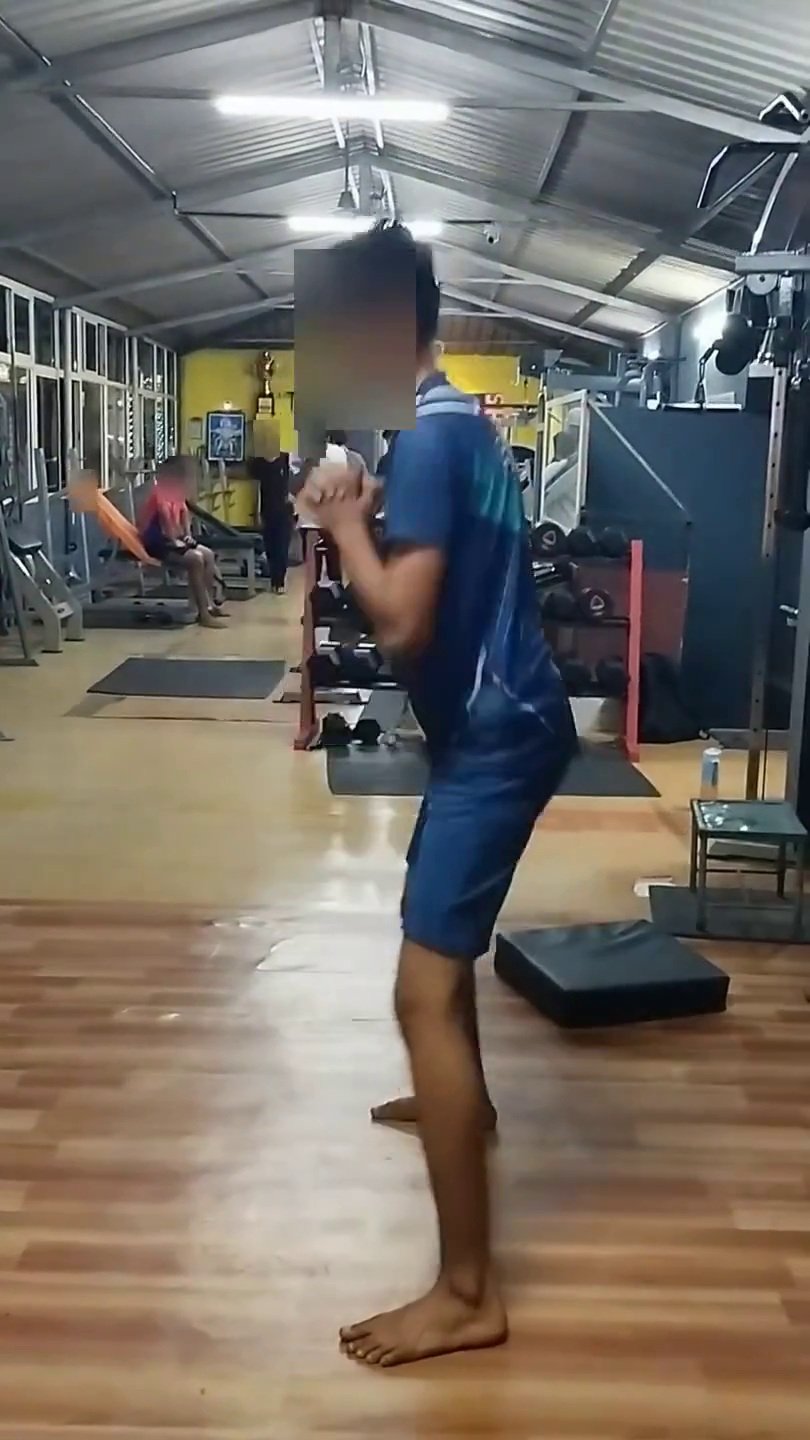squat: (233, 258, 596, 1423)
